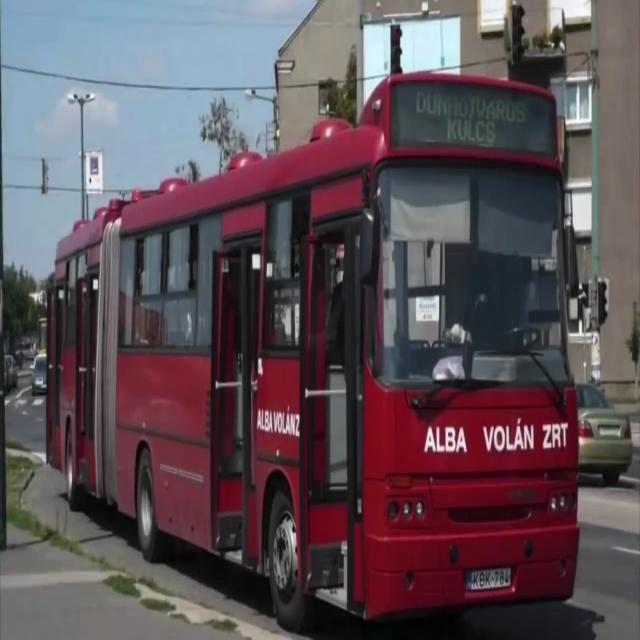bus: (43, 68, 585, 640)
